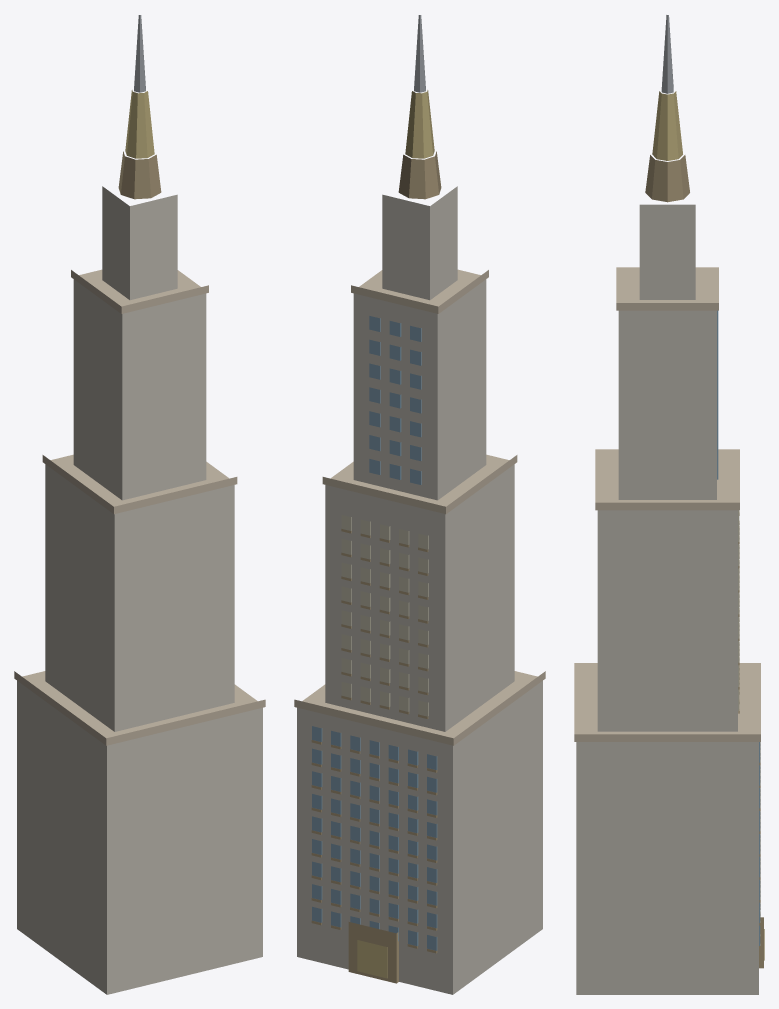
Rendered from tower_artdeco.glb.
3 views of the same model, side by side, from view 1: azimuth 30°, elevation 25°; view 2: azimuth 150°, elevation 25°; view 3: azimuth 270°, elevation 25° (orthographic).
Visible parts, largest first — view 1: Mesh; view 2: Mesh; view 3: Mesh.
Part boxes in pixels (<box>): Mesh: <box>14,15,265,994</box>; Mesh: <box>294,15,545,994</box>; Mesh: <box>574,15,764,994</box>.
Size of the model in its own units: 26.6 by 148 by 27.1.
